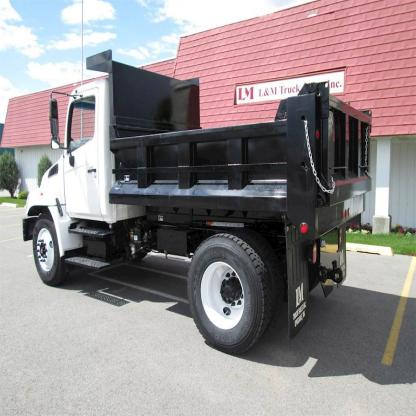dump_truck: (9, 34, 377, 360)
